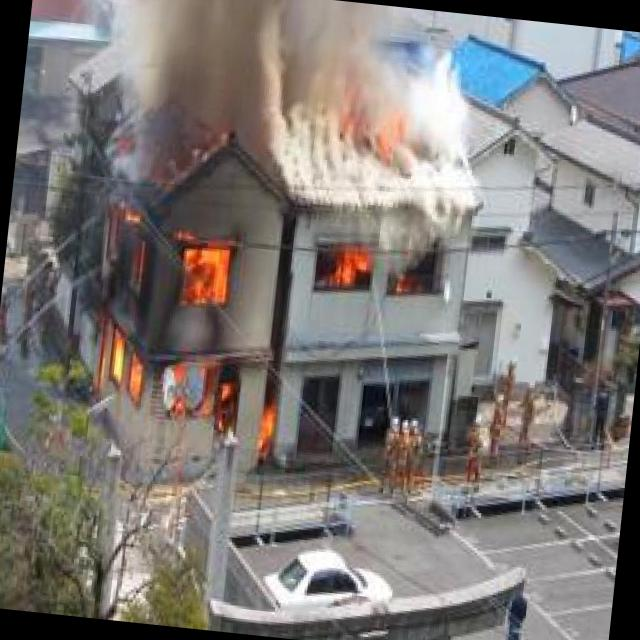Fire: (65, 175, 304, 458), (302, 225, 453, 305)
Smoke: (109, 0, 490, 227)
